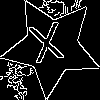X: (27, 21, 69, 73)
